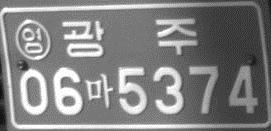0: (19, 67, 49, 116)
3: (152, 65, 185, 115)
4: (227, 65, 258, 112)
5: (116, 66, 146, 115)
6: (52, 66, 83, 116)
7: (188, 65, 219, 115)
광주_D: (60, 17, 198, 58)
마: (84, 73, 113, 109)
영: (14, 18, 50, 60)
